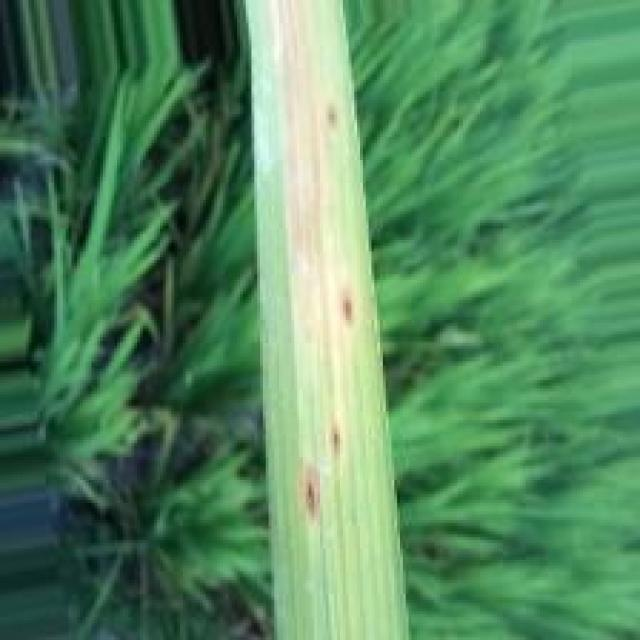Brown_Spot: (301, 469, 323, 514), (340, 290, 354, 326), (332, 432, 341, 452)
